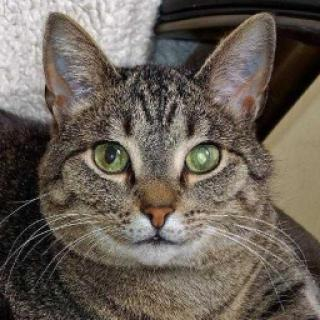cat: (43, 8, 275, 275)
nose: (133, 178, 182, 232)
